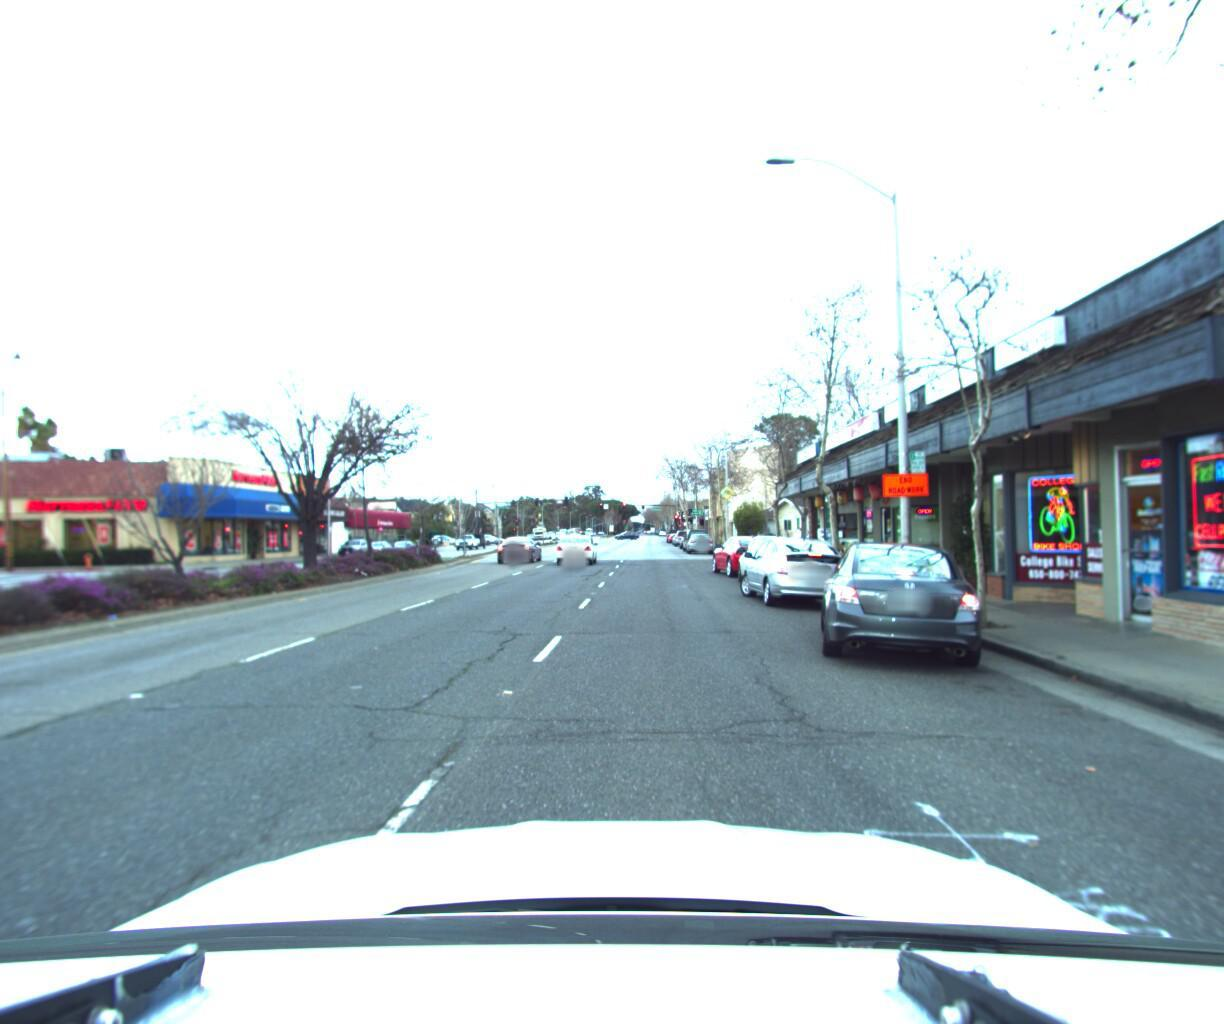car: (811, 525, 1004, 670), (733, 529, 861, 606), (727, 526, 815, 584), (703, 526, 782, 574), (551, 529, 602, 565), (492, 531, 542, 562), (681, 527, 714, 550), (671, 527, 691, 542)
